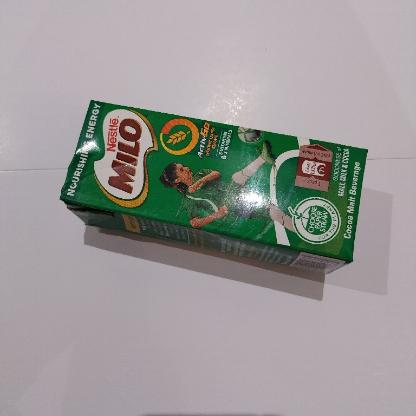Others: (61, 101, 367, 273)
